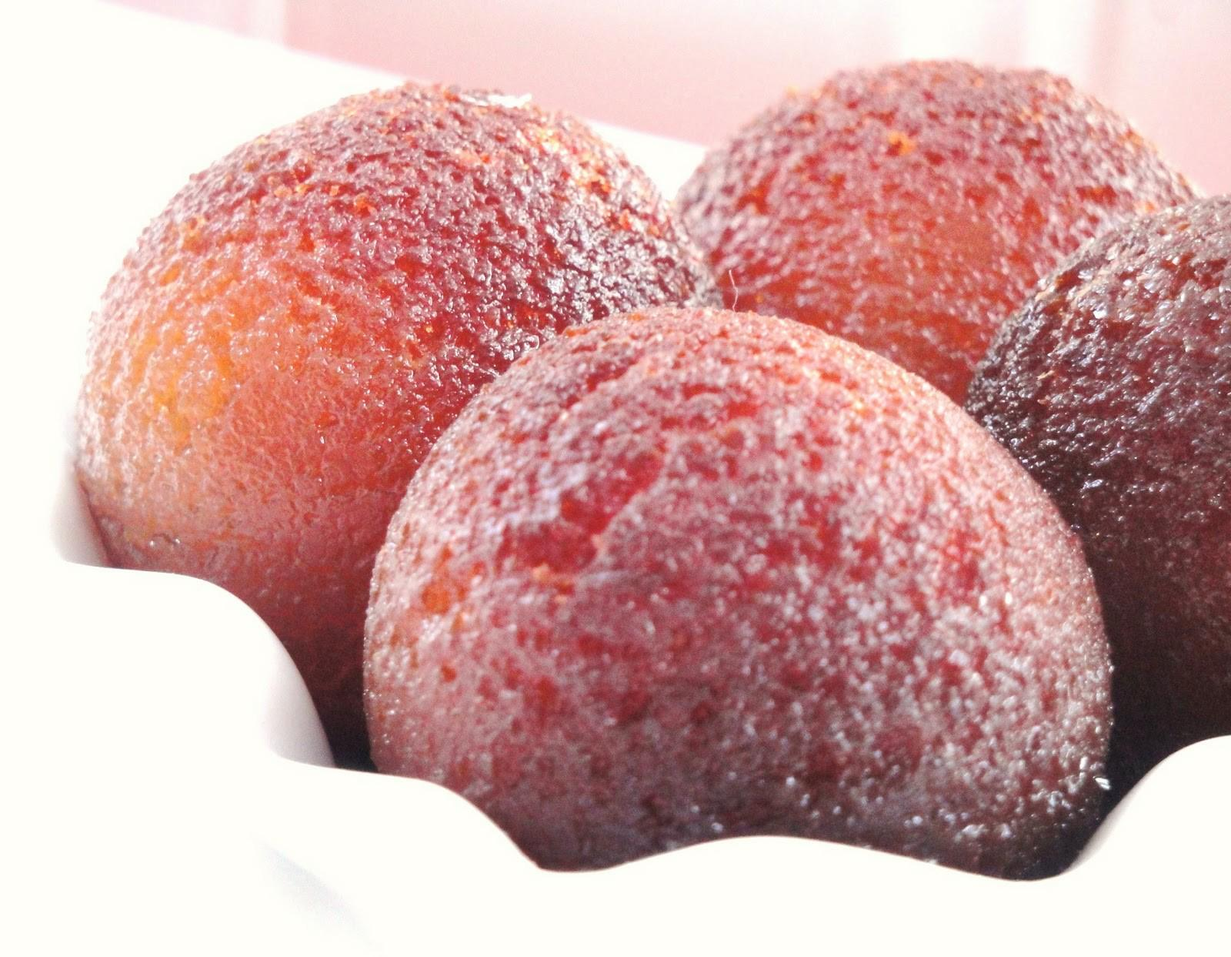GulabJamun: (73, 80, 720, 760), (364, 307, 1113, 879), (666, 62, 1203, 410), (945, 198, 1231, 755)
